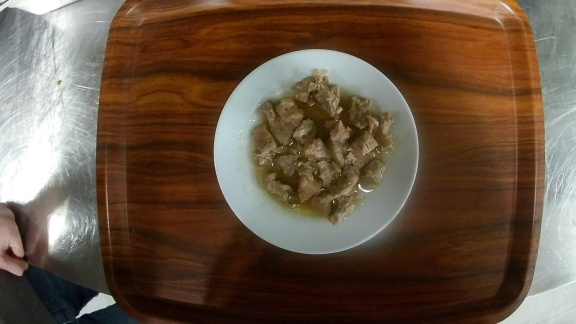etsote: (212, 47, 419, 255)
